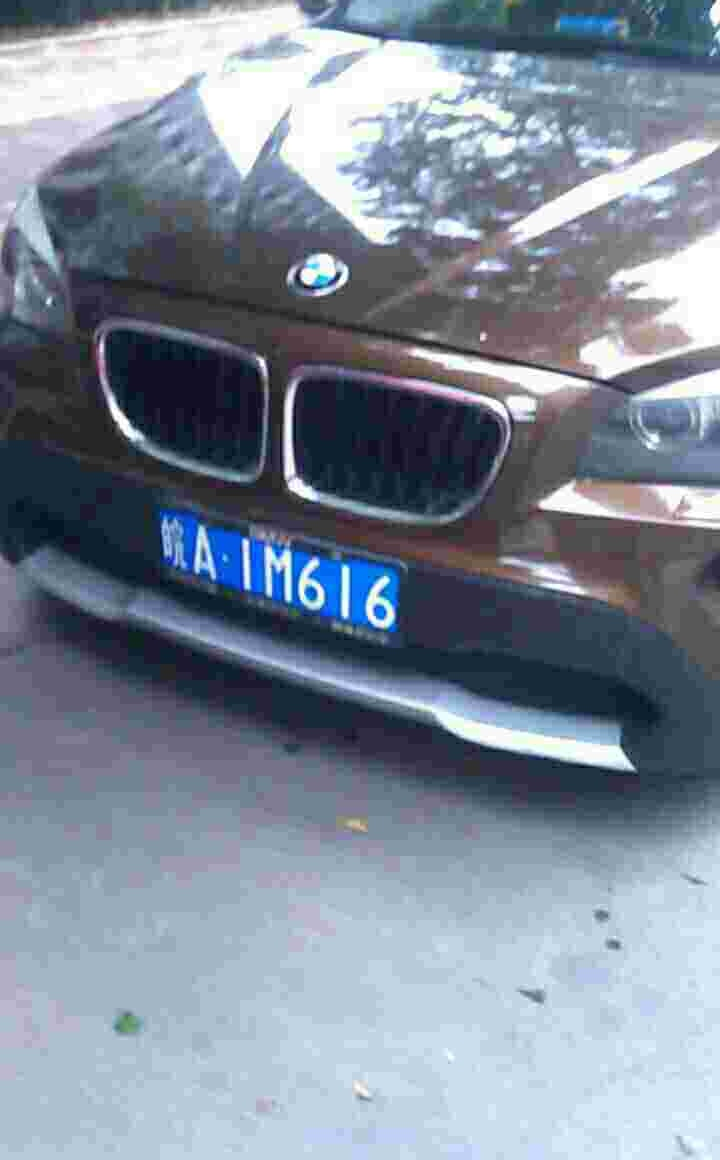license_plate: (150, 519, 408, 619)
